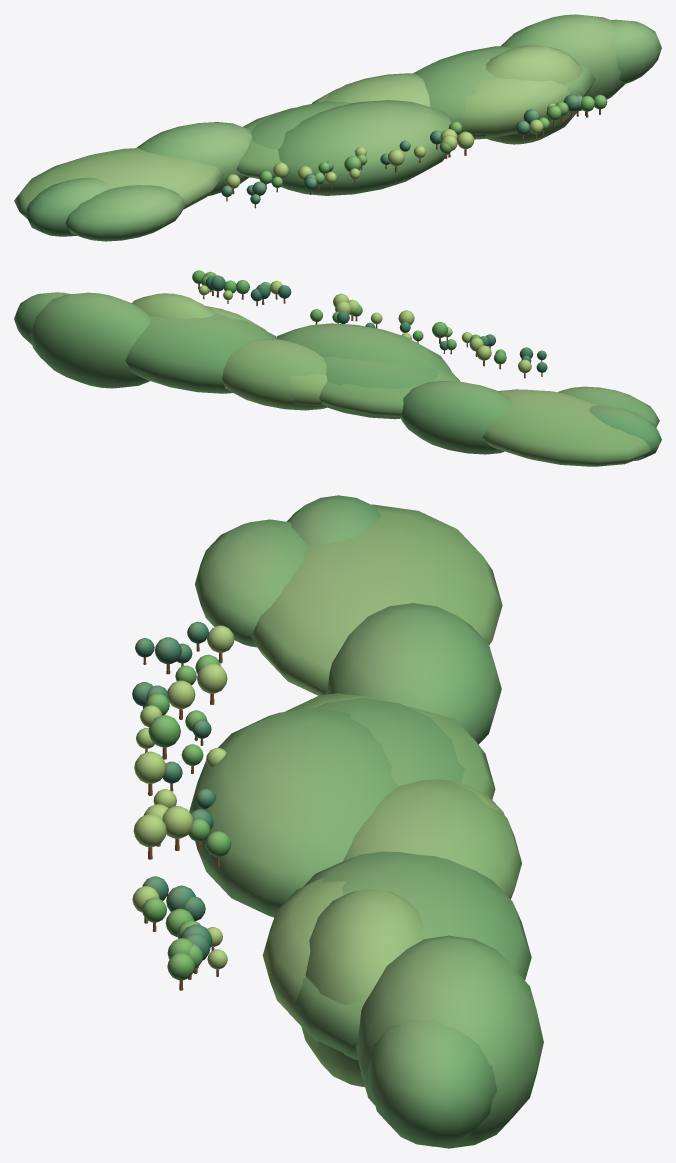
File: storybook-backdrop.glb
3 views of the same model, one above another, from view 1: azimuth 30°, elevation 25°; view 2: azimuth 150°, elevation 25°; view 3: azimuth 270°, elevation 25° (orthographic). The views are drawn at different scales.
Parts seen in each view (by area): view 1: storybook-backdrop; view 2: storybook-backdrop; view 3: storybook-backdrop.
Part boxes in pixels (<box>): storybook-backdrop: <box>14,14,661,241</box>; storybook-backdrop: <box>14,270,661,466</box>; storybook-backdrop: <box>132,495,543,1148</box>.
Size of the model in its own units: 167 by 21.95 by 48.14.
